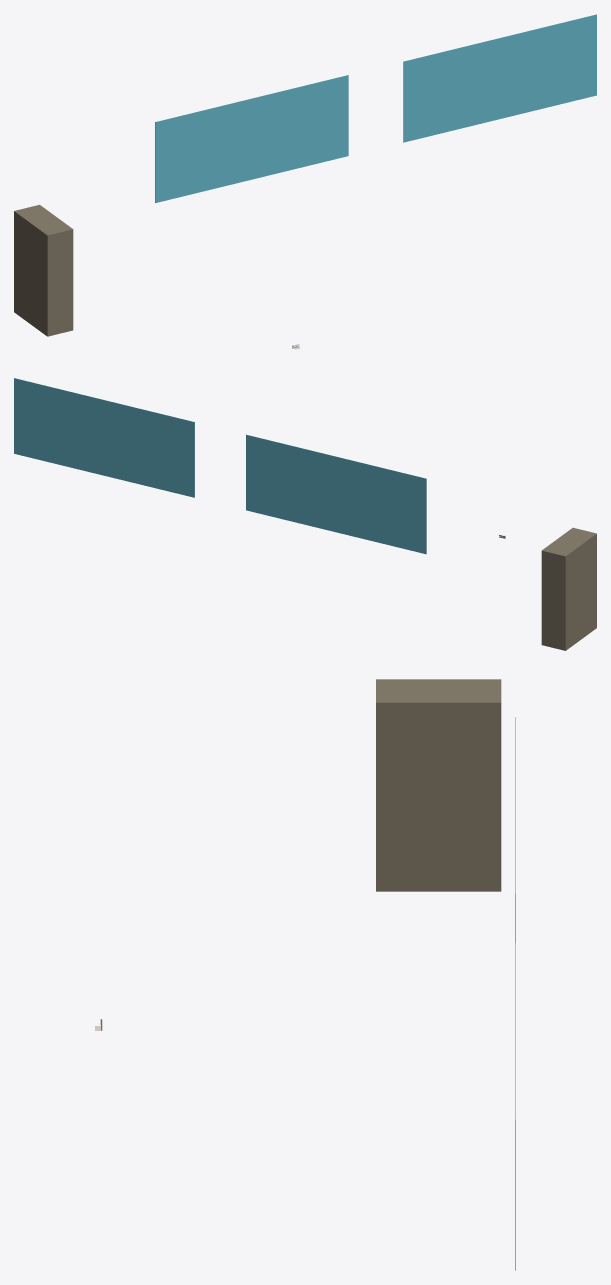
The model's file is L1_workshop.dae.
3 views of the same model, one above another, from view 1: azimuth 30°, elevation 25°; view 2: azimuth 150°, elevation 25°; view 3: azimuth 270°, elevation 25° (orthographic). The views are drawn at different scales.
Parts seen in each view (by area): view 1: Body7, Body6, Body5; view 2: Body6, Body7, Body5; view 3: Body5.
Part boxes in pixels (box(x1,y1,x2,y2)): Body7: box(403, 14, 596, 142); Body6: box(155, 75, 348, 202); Body5: box(14, 204, 73, 336); Body6: box(246, 434, 426, 554); Body7: box(14, 378, 194, 497); Body5: box(541, 527, 596, 650); Body5: box(376, 679, 501, 891).
Size of the model in its own units: 9100 by 3025 by 2250.
